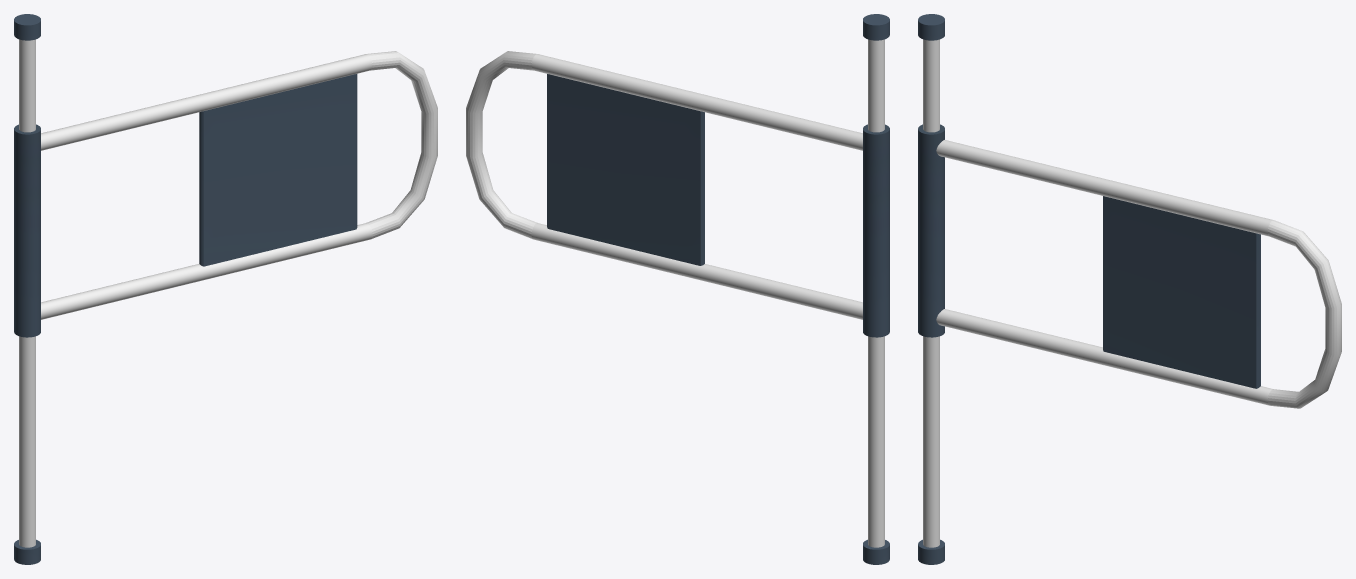
Rendered from GirisEngel.fbx.
3 views of the same model, side by side, from view 1: azimuth 30°, elevation 25°; view 2: azimuth 150°, elevation 25°; view 3: azimuth 330°, elevation 25° (orthographic).
Visible parts, largest first — view 1: pCylinder8; view 2: pCylinder8; view 3: pCylinder8.
Boxes of the visible parts, x1,y1,x2,y2 form: pCylinder8: (14, 14, 437, 564); pCylinder8: (466, 14, 889, 564); pCylinder8: (918, 14, 1341, 564).
Size of the model in its own units: 72.31 by 88.54 by 4.06.
